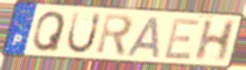A: (125, 16, 162, 60)
E: (162, 18, 202, 62)
H: (192, 19, 239, 63)
Q: (31, 10, 68, 53)
R: (94, 12, 135, 58)
U: (64, 11, 103, 56)
